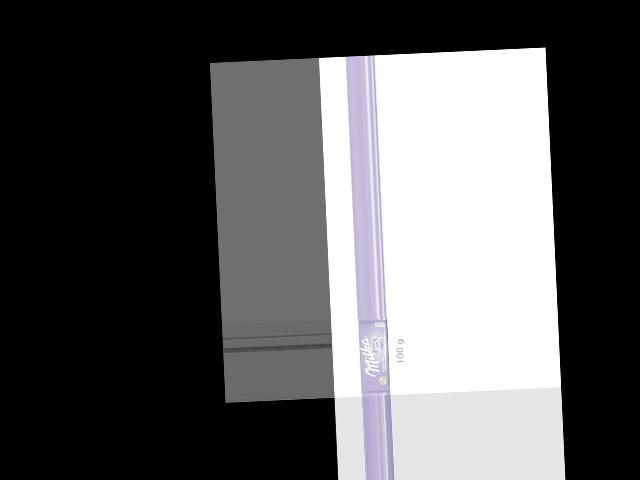chocolate: (357, 316, 395, 394)
